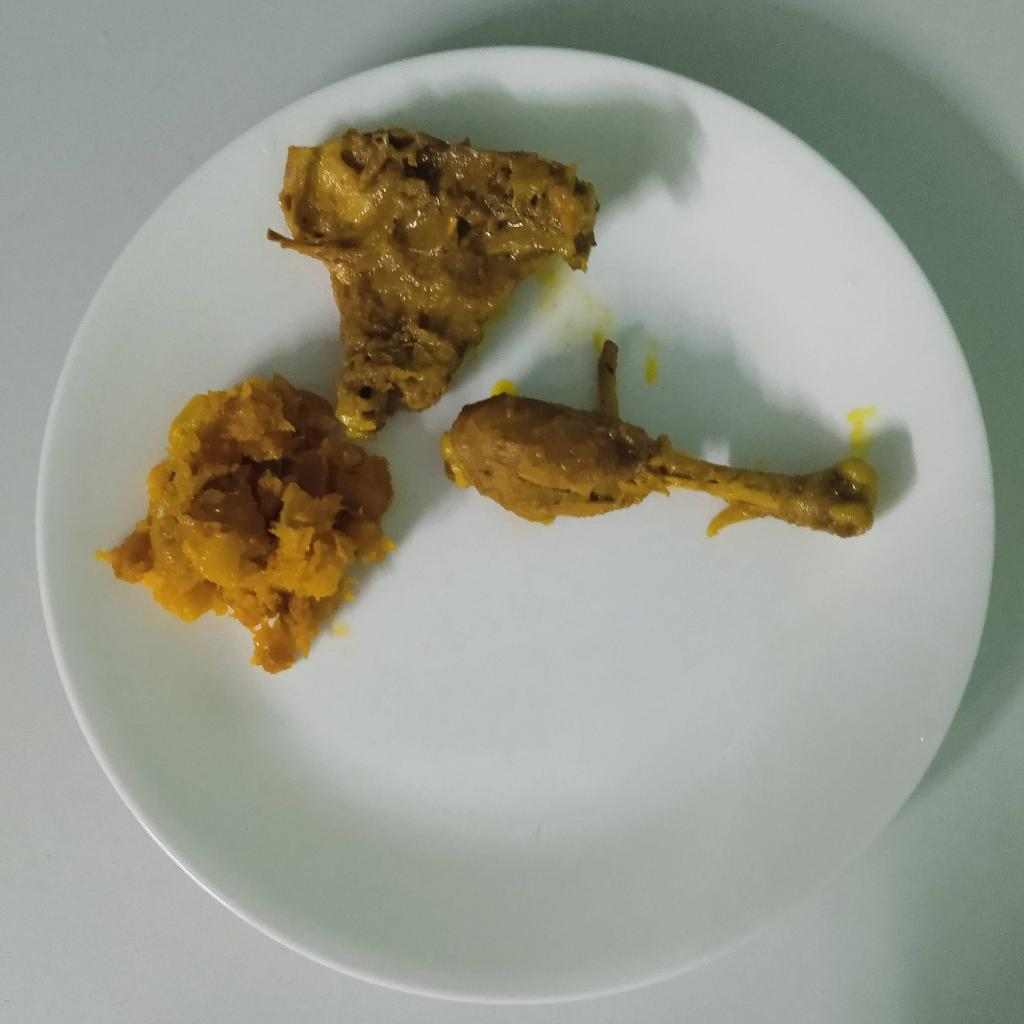chicken: (266, 127, 871, 542)
kumra-vaji: (113, 383, 386, 670)
